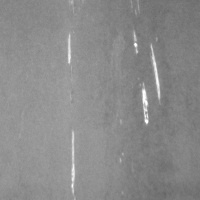scratches: (132, 36, 164, 108), (66, 127, 81, 199), (136, 77, 154, 128), (63, 28, 75, 69)
